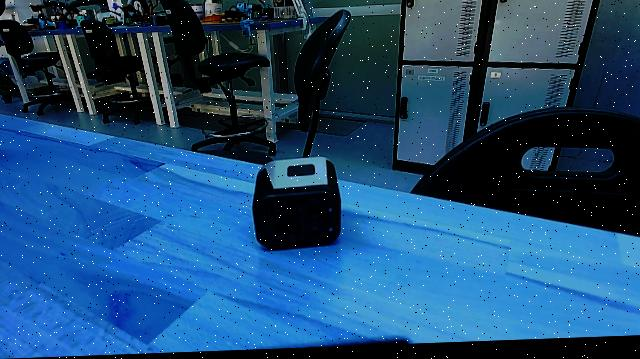adapter: (246, 154, 344, 254)
